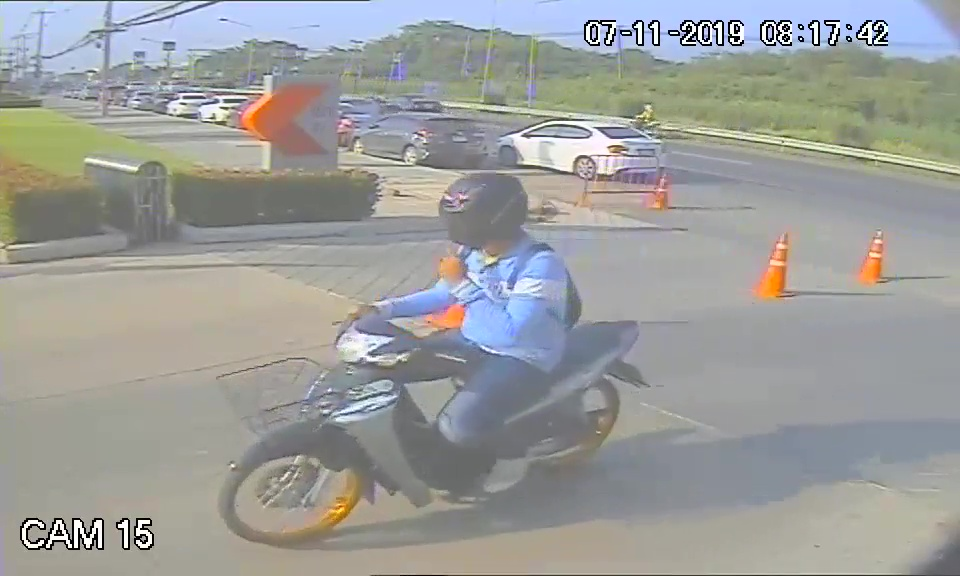motorcycle: (208, 302, 655, 548)
